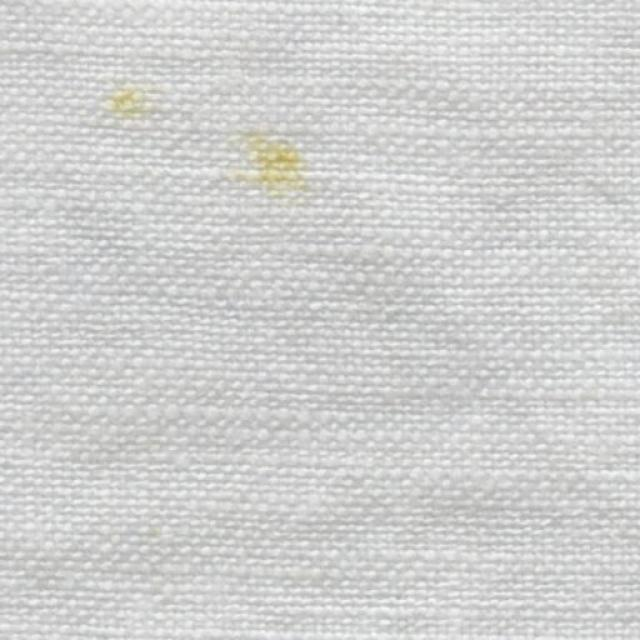Stain: (242, 132, 306, 196), (108, 85, 155, 118)
